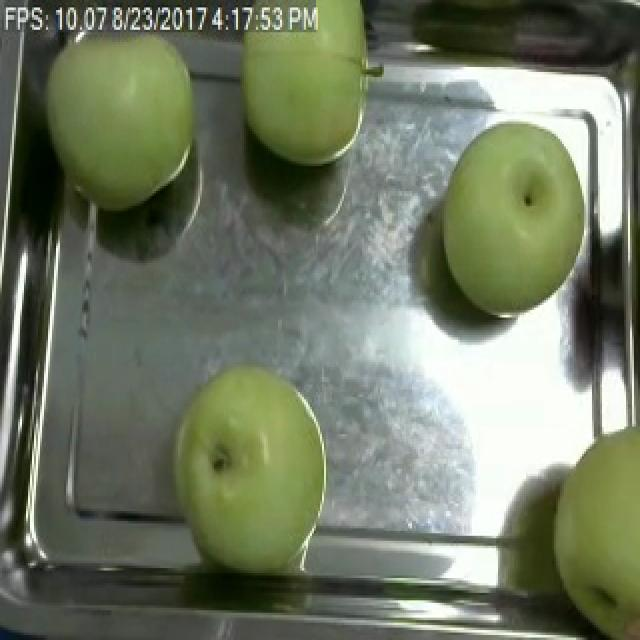50-_ripeness: (148, 353, 335, 584), (31, 0, 200, 204), (443, 100, 590, 330), (234, 0, 378, 179)
